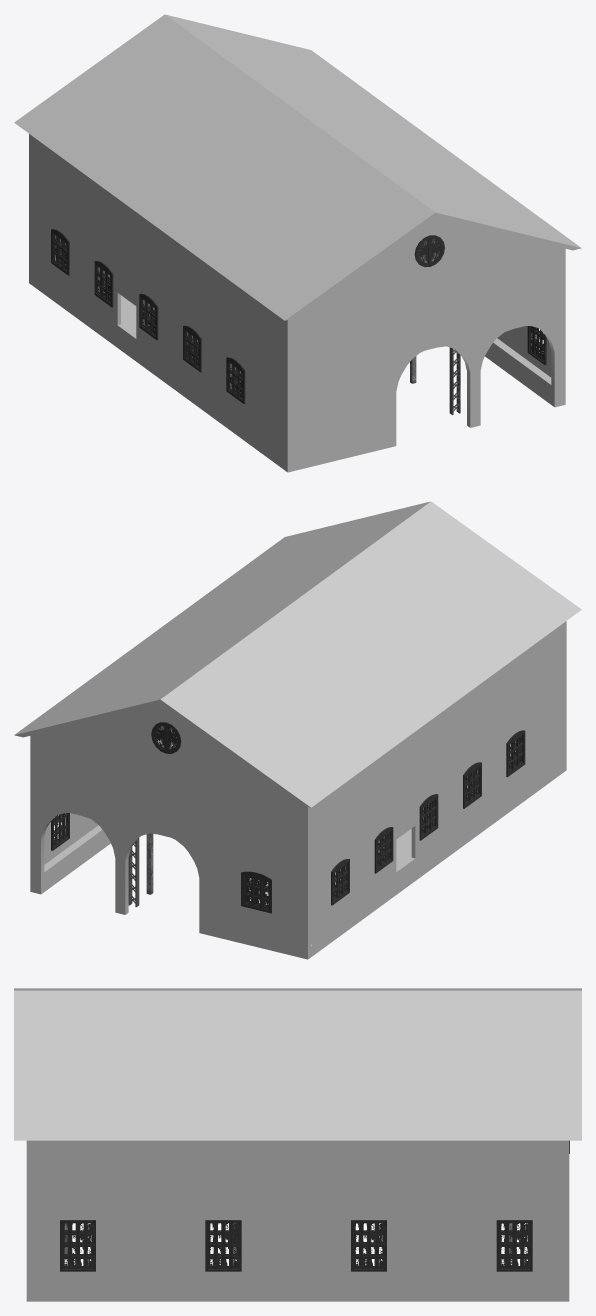
Rendered from Passenger Patio.fbx.
3 renders of one model, top to bottom at view 1: azimuth 30°, elevation 25°; view 2: azimuth 150°, elevation 25°; view 3: azimuth 270°, elevation 25°, orthographic. The views are drawn at different scales.
Visible parts, largest first — view 1: Cube.016, Cube, Cube.012, Cylinder.001, Cube.041, Cube.021; view 2: Cube.016, Cube, Cube.012, Cube.033, Cylinder.001, Cube.041; view 3: Cube.016, Cube, Cube.021.
Boxes of the visible parts, x1,y1,x2,y2 form: Cube.016: (14, 14, 581, 320); Cube: (29, 134, 565, 472); Cube.012: (51, 229, 245, 403); Cylinder.001: (414, 235, 444, 267); Cube.041: (449, 347, 460, 415); Cube.021: (527, 326, 546, 364); Cube.016: (14, 501, 581, 807); Cube: (30, 621, 566, 959); Cube.012: (331, 730, 525, 905); Cube.033: (241, 871, 271, 913); Cylinder.001: (151, 722, 181, 753); Cube.041: (128, 838, 139, 907); Cube.016: (14, 988, 581, 1140); Cube: (26, 1140, 569, 1301); Cube.021: (60, 1220, 532, 1271).
Bounding box in the file's own units: 1994 × 1474 × 3145.
